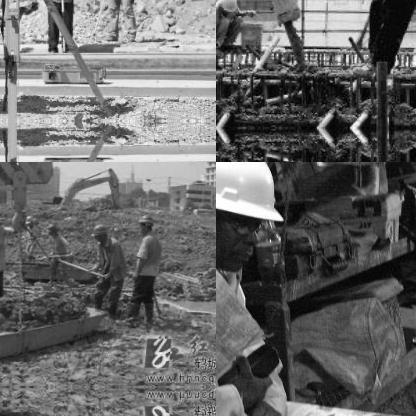Helmet: (216, 162, 287, 298), (135, 210, 155, 234), (216, 0, 241, 19), (86, 223, 108, 242), (42, 219, 58, 235), (22, 212, 32, 226)
